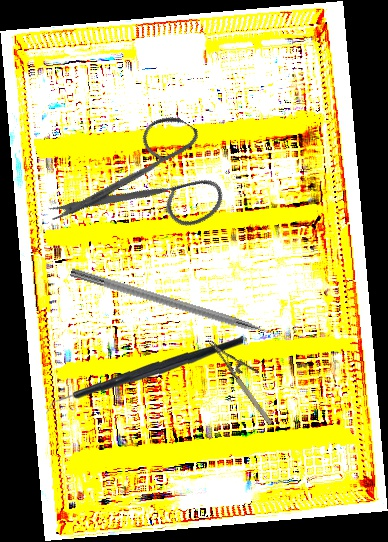Chopper: (45, 329, 244, 425)
Hook Surgical: (69, 266, 293, 346)
Iris Scissors: (43, 84, 249, 293)
Needle Holder: (208, 327, 287, 428)
